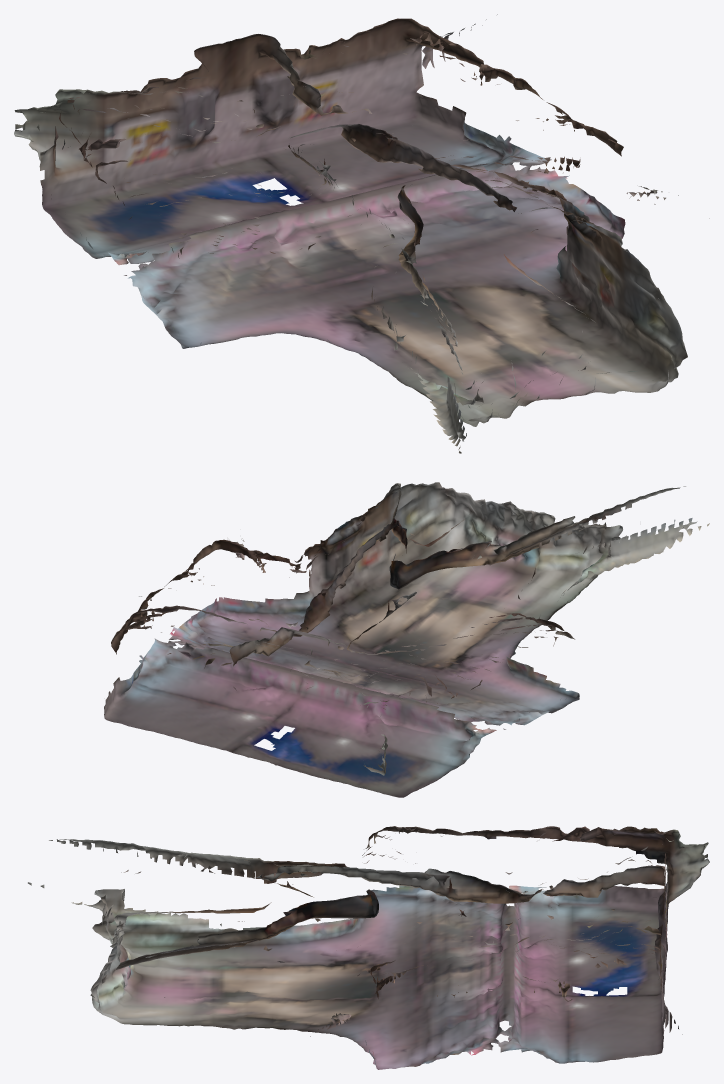
The model's file is gen-29.glb.
3 views of the same model, one above another, from view 1: azimuth 30°, elevation 25°; view 2: azimuth 150°, elevation 25°; view 3: azimuth 270°, elevation 25° (orthographic). The views are drawn at different scales.
Parts seen in each view (by area): view 1: world; view 2: world; view 3: world.
Boxes of the visible parts, x1,y1,x2,y2 form: world: (14,14,709,453); world: (104,482,709,797); world: (28,826,709,1069).
Bounding box in the file's own units: 7.28 × 1.87 × 10.51.
